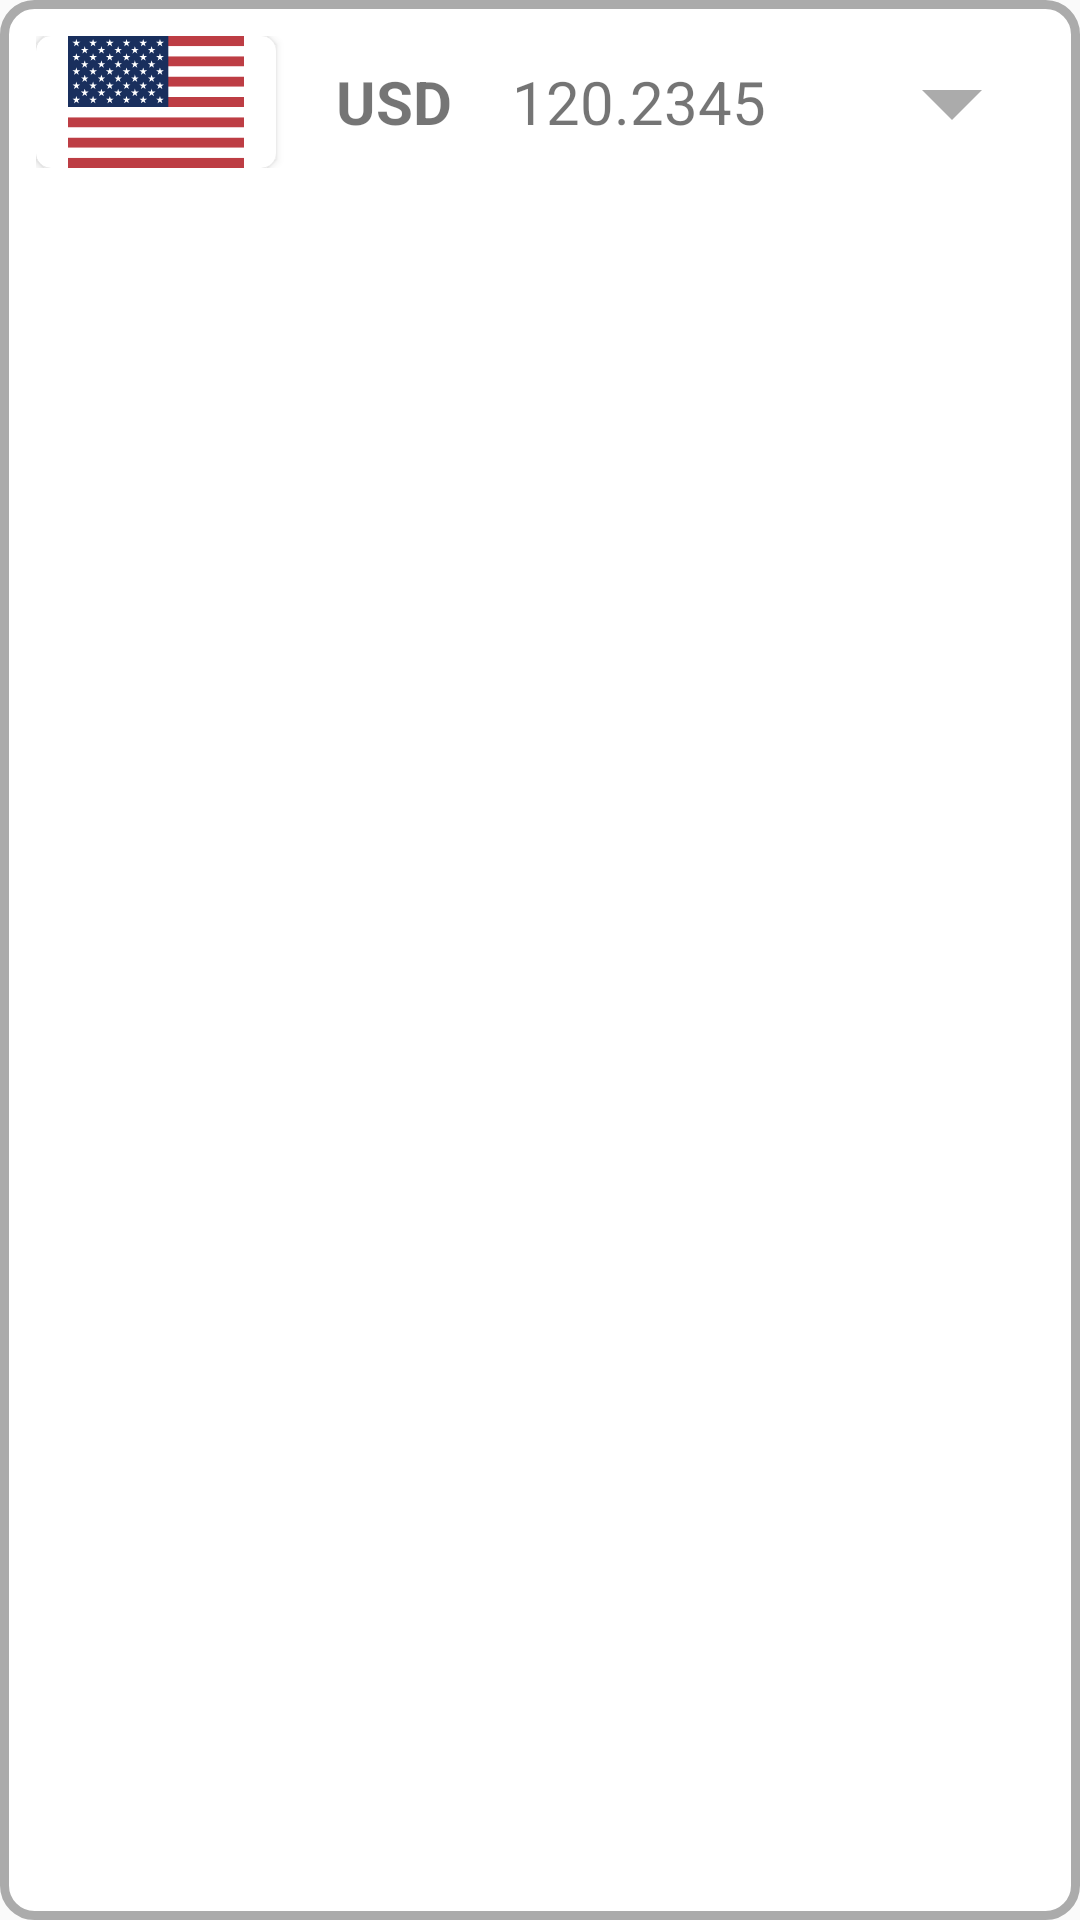

Named icons in this screenshot (1080 × 1920) and their centers, [x,y]:
arrow drop down: [952,105]
